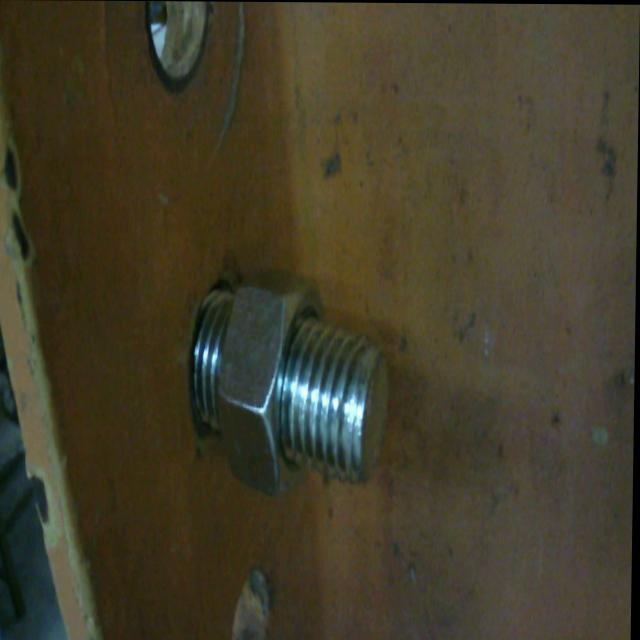Loose bolt: (196, 262, 398, 487)
Missing bolt: (144, 2, 215, 88), (231, 556, 282, 638)
Regular bolt: (218, 282, 382, 487)
